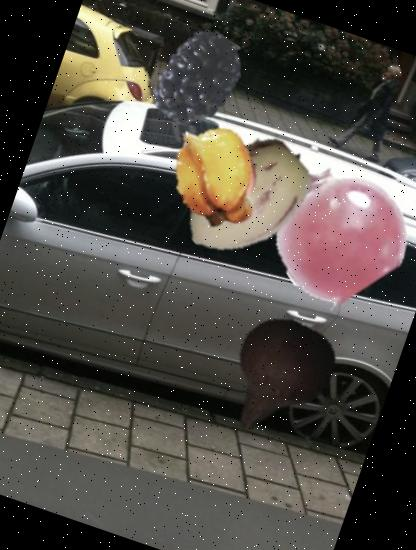Carambula: (145, 105, 286, 246)
Kaki: (188, 124, 276, 212)
Mulberry: (134, 16, 262, 144)
Pear: (197, 298, 357, 458)
Pepino: (159, 110, 334, 285)
Redcurrant: (254, 149, 416, 316)
